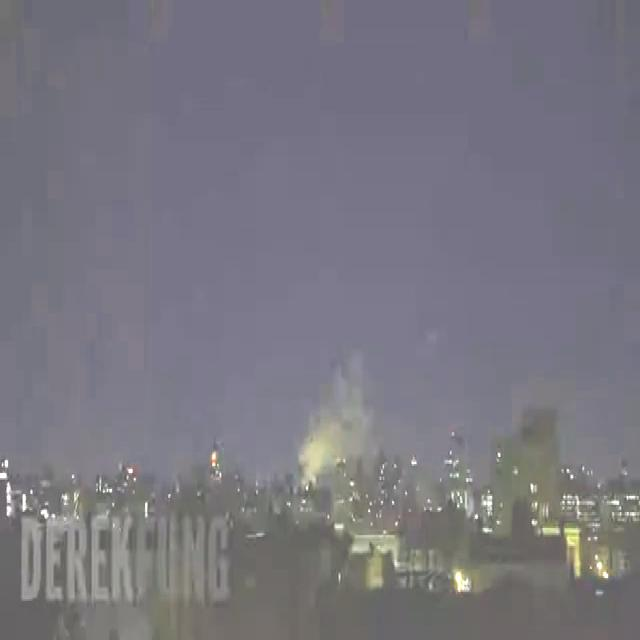smoke: (298, 354, 376, 478), (424, 331, 437, 348)
